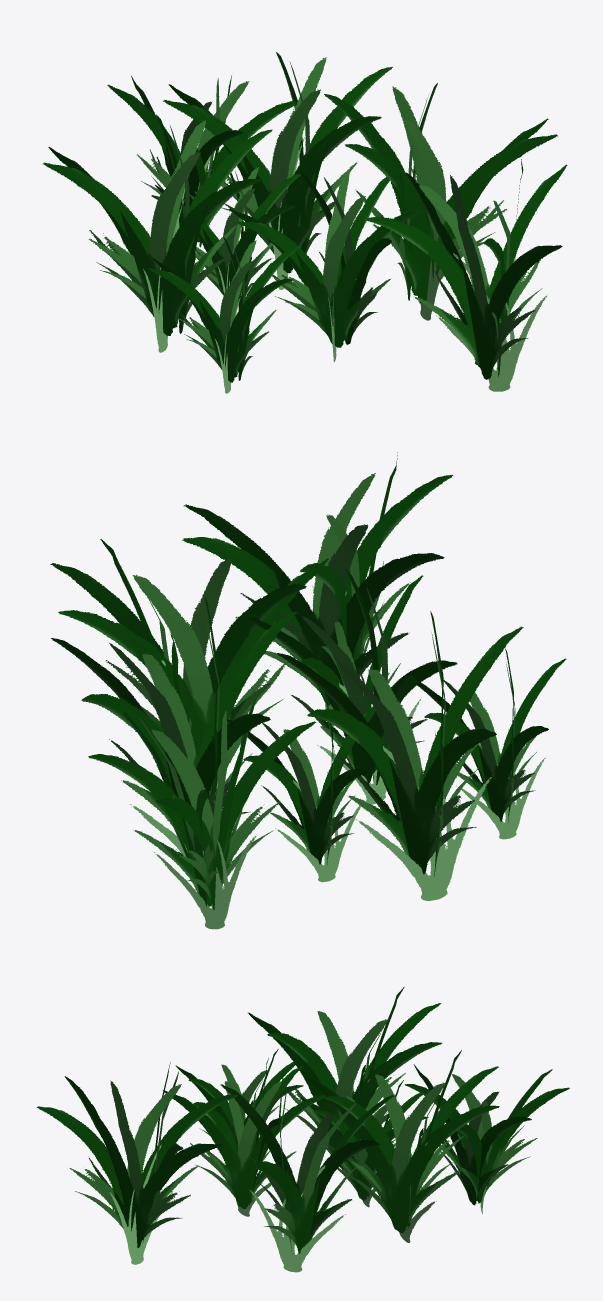
Rendered from GrassClump_002.fbx.
The picture shows the model from 3 angles, top to bottom: view 1: azimuth 30°, elevation 25°; view 2: azimuth 150°, elevation 25°; view 3: azimuth 270°, elevation 25°; orthographic projection. The views are drawn at different scales.
Parts seen in each view (by area): view 1: GrassClump_002; view 2: GrassClump_002; view 3: GrassClump_002.
Boxes of the visible parts, x1,y1,x2,y2 form: GrassClump_002: (43, 52, 567, 393); GrassClump_002: (50, 452, 566, 929); GrassClump_002: (36, 987, 569, 1272).
Bounding box in the file's own units: 11.55 × 5.67 × 14.11.
1 material, 1 textured.
